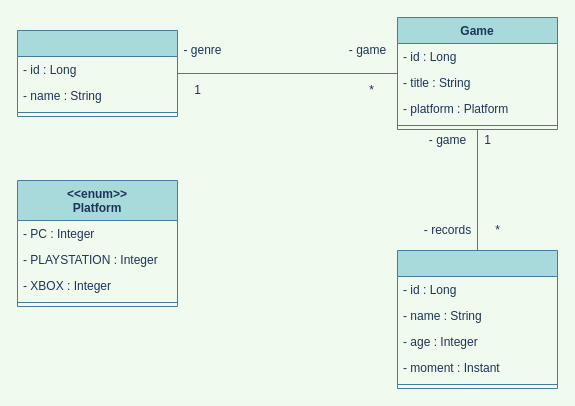
The diagram is 575 pixels wide and 406 high, and some of its shapes have lost their labels. Here are the shapes that lost their labels. From the top down, the box of each, then its label:
(16, 30, 178, 116): Genre
(396, 250, 558, 388): Record
